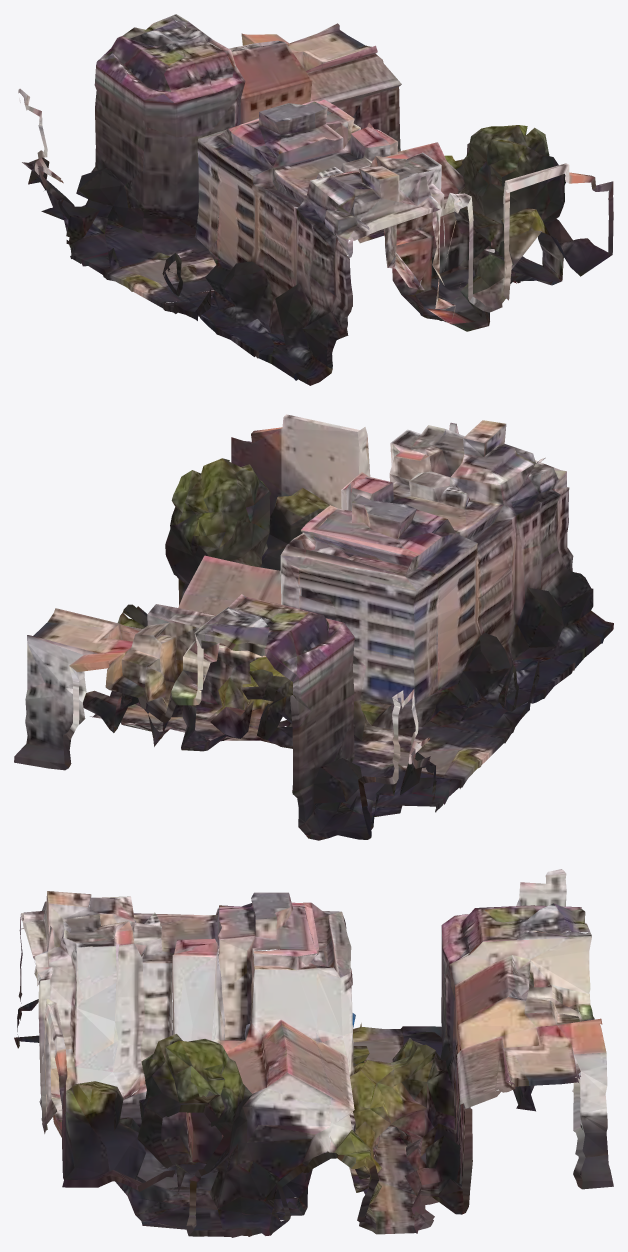
3 views of the same model, one above another, from view 1: azimuth 30°, elevation 25°; view 2: azimuth 150°, elevation 25°; view 3: azimuth 270°, elevation 25° (orthographic). The views are drawn at different scales.
Visible parts, largest first — view 1: Mesh_0; view 2: Mesh_0; view 3: Mesh_0.
Part boxes in pixels (x1=…): Mesh_0: x1=18, y1=14, x2=613, y2=385; Mesh_0: x1=14, y1=414, x2=613, y2=840; Mesh_0: x1=14, y1=869, x2=613, y2=1237.
Size of the model in its own units: 67.23 by 34.57 by 82.55.
Materials: 1 (1 with a texture image).
